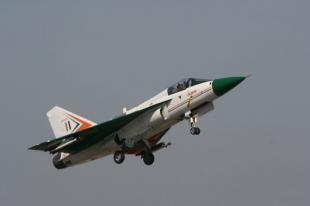airplane: (25, 71, 251, 171)
